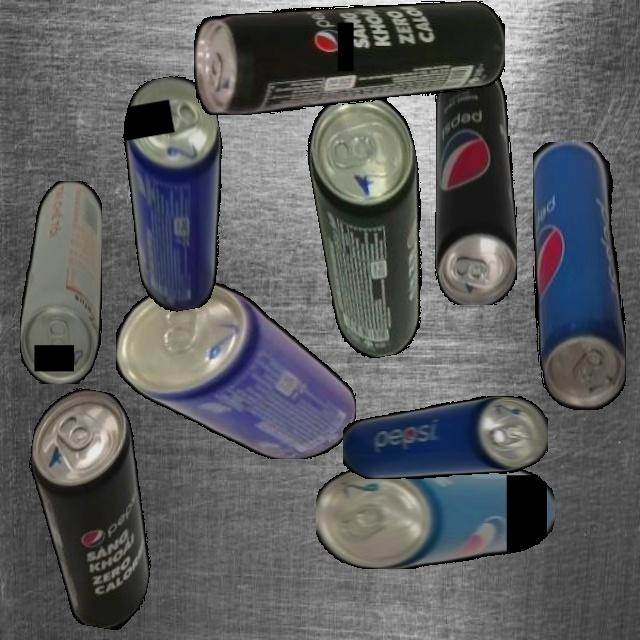debris: (3, 382, 179, 634), (116, 281, 356, 459), (298, 88, 449, 363), (193, 1, 505, 115), (108, 70, 249, 316), (532, 141, 626, 410), (316, 464, 555, 569), (434, 70, 517, 305), (342, 396, 548, 479), (19, 180, 102, 384)
